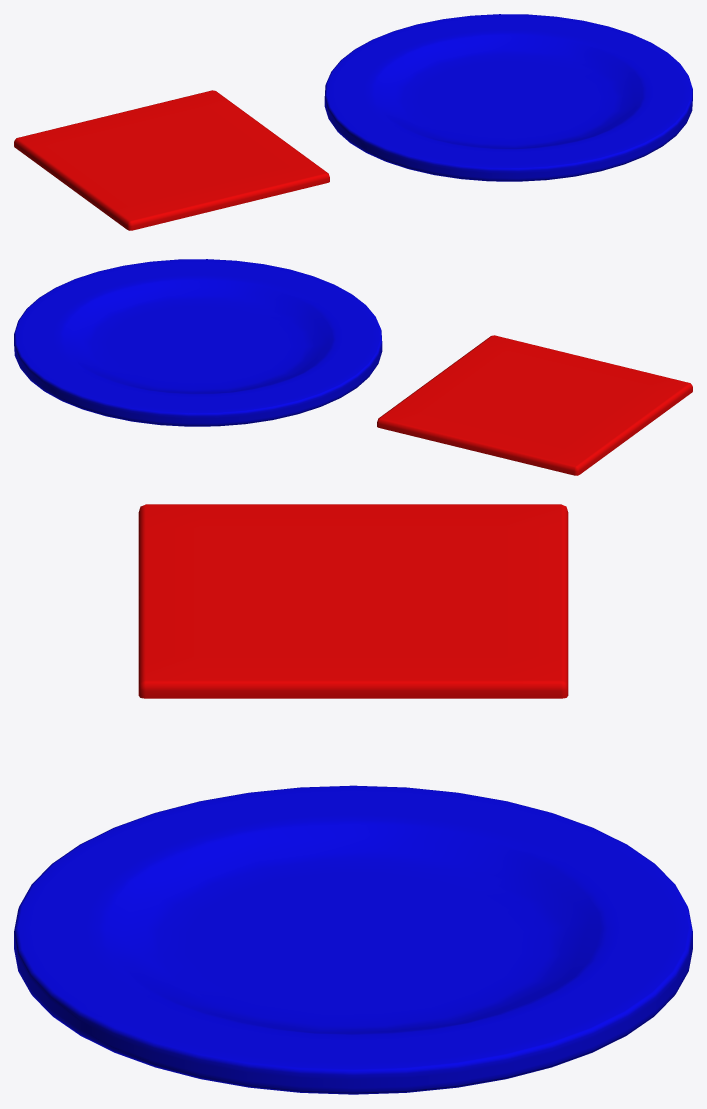
The model's file is nori_high_explosion.fbx.
The picture shows the model from 3 angles, top to bottom: view 1: azimuth 30°, elevation 25°; view 2: azimuth 150°, elevation 25°; view 3: azimuth 270°, elevation 25°; orthographic projection. The views are drawn at different scales.
Visible parts, largest first — view 1: polySurface2, polySurface3; view 2: polySurface2, polySurface3; view 3: polySurface2, polySurface3.
Part boxes in pixels (<box>): polySurface2: <box>324,14,692,181</box>; polySurface3: <box>14,90,329,230</box>; polySurface2: <box>14,259,382,426</box>; polySurface3: <box>377,335,692,475</box>; polySurface2: <box>14,785,692,1094</box>; polySurface3: <box>138,504,568,698</box>.
Bounding box in the file's own units: 1.77 × 0.0896 × 0.9483.
